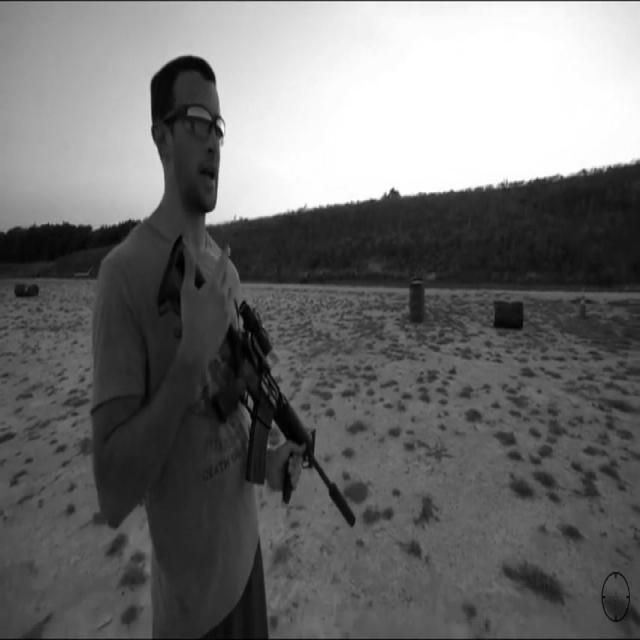Sniper: (163, 212, 363, 544)
